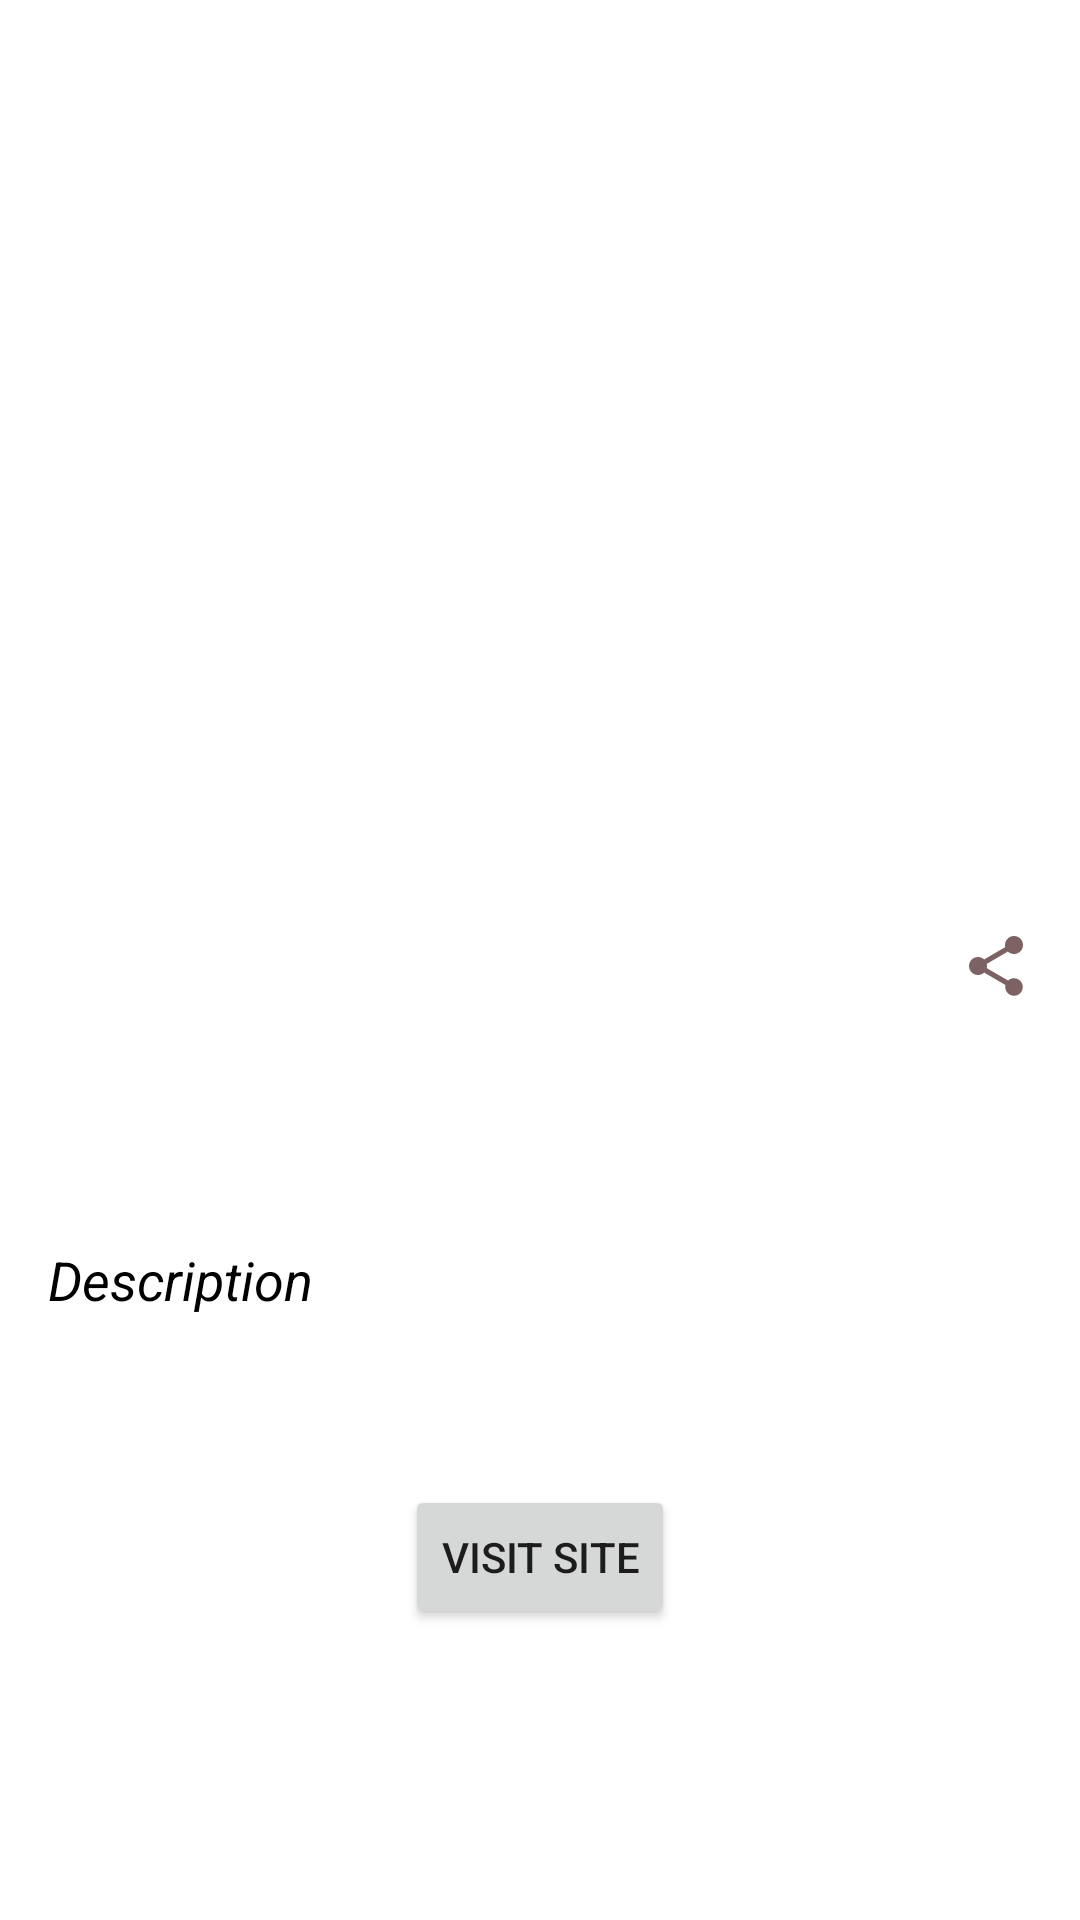

Named icons in this screenshot (1080px×1920px) and their bounding boxes, (x1, y1, x2, y2):
share: (969, 936, 1023, 996)
